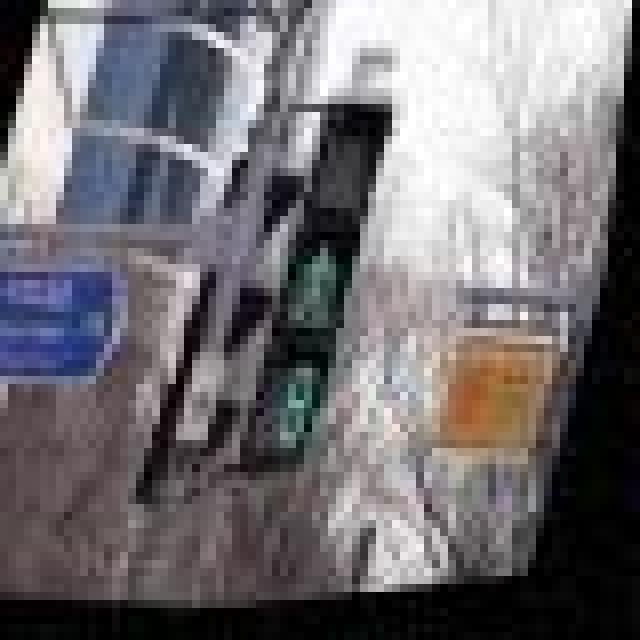greenlight: (276, 98, 386, 348)
